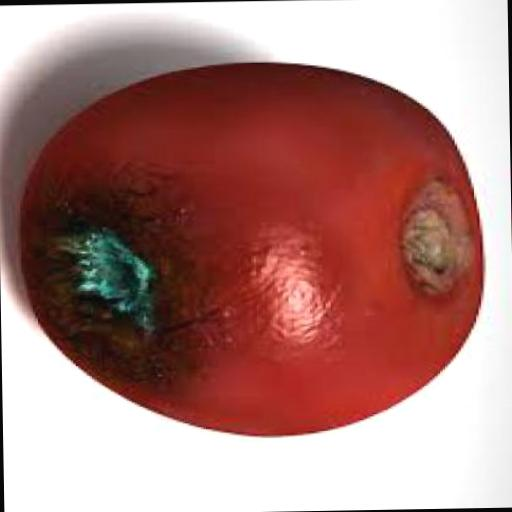biodegradable: (15, 52, 492, 438)
